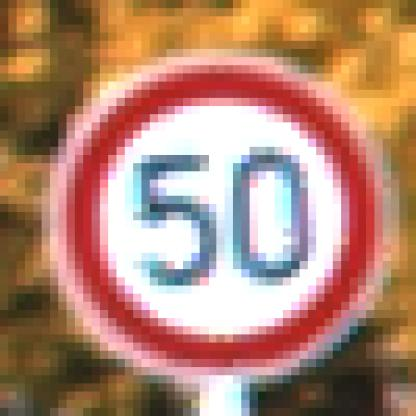Speed Limit 50: (64, 61, 376, 370)
